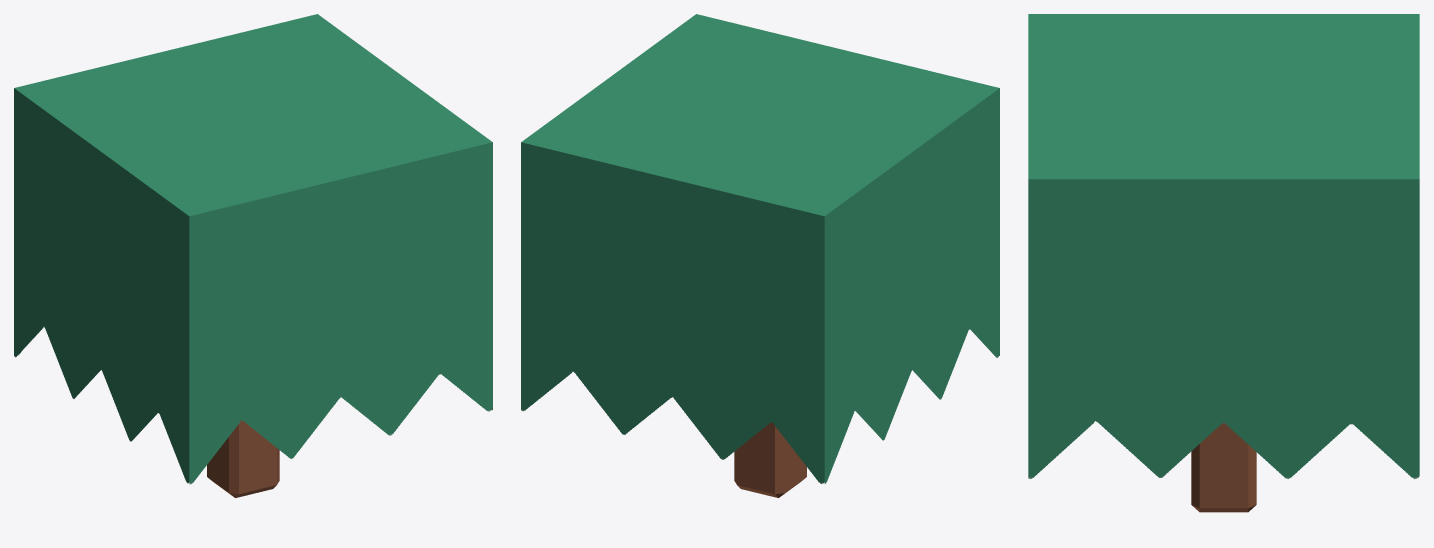
File: Bush 2.fbx
3 views of the same model, side by side, from view 1: azimuth 30°, elevation 25°; view 2: azimuth 150°, elevation 25°; view 3: azimuth 270°, elevation 25° (orthographic). The views are drawn at different scales.
Parts seen in each view (by area): view 1: Bush_1, Trunk; view 2: Bush_1, Trunk; view 3: Bush_1, Trunk.
Part boxes in pixels (bbox=[...]): Bush_1: bbox=[14, 14, 492, 484]; Trunk: bbox=[207, 420, 279, 497]; Bush_1: bbox=[521, 14, 999, 483]; Trunk: bbox=[734, 422, 806, 497]; Bush_1: bbox=[1028, 14, 1419, 479]; Trunk: bbox=[1191, 423, 1256, 512].
Size of the model in its own units: 0.6 by 0.695 by 0.6.
